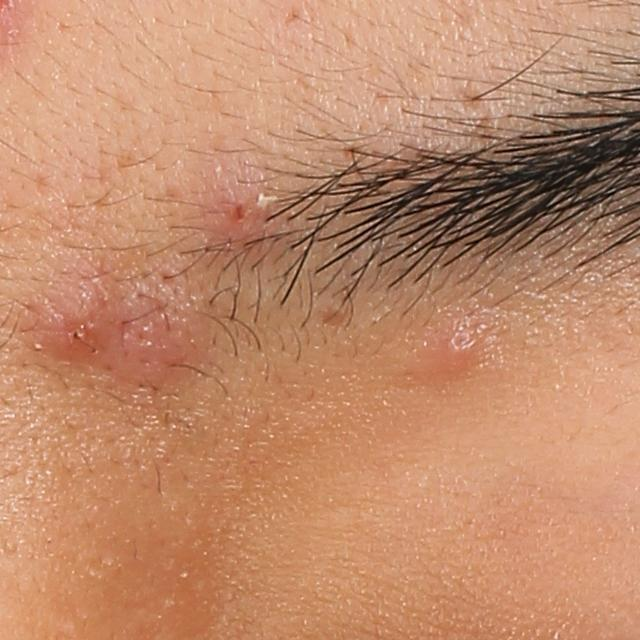papule: (117, 283, 197, 389), (31, 283, 120, 363), (436, 330, 483, 372)
